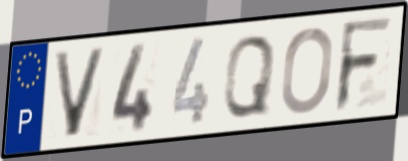4: (109, 40, 156, 135), (170, 34, 212, 128)
F: (332, 14, 396, 115)
O: (278, 25, 336, 116)
Q: (220, 32, 278, 121)
V: (51, 46, 110, 141)
